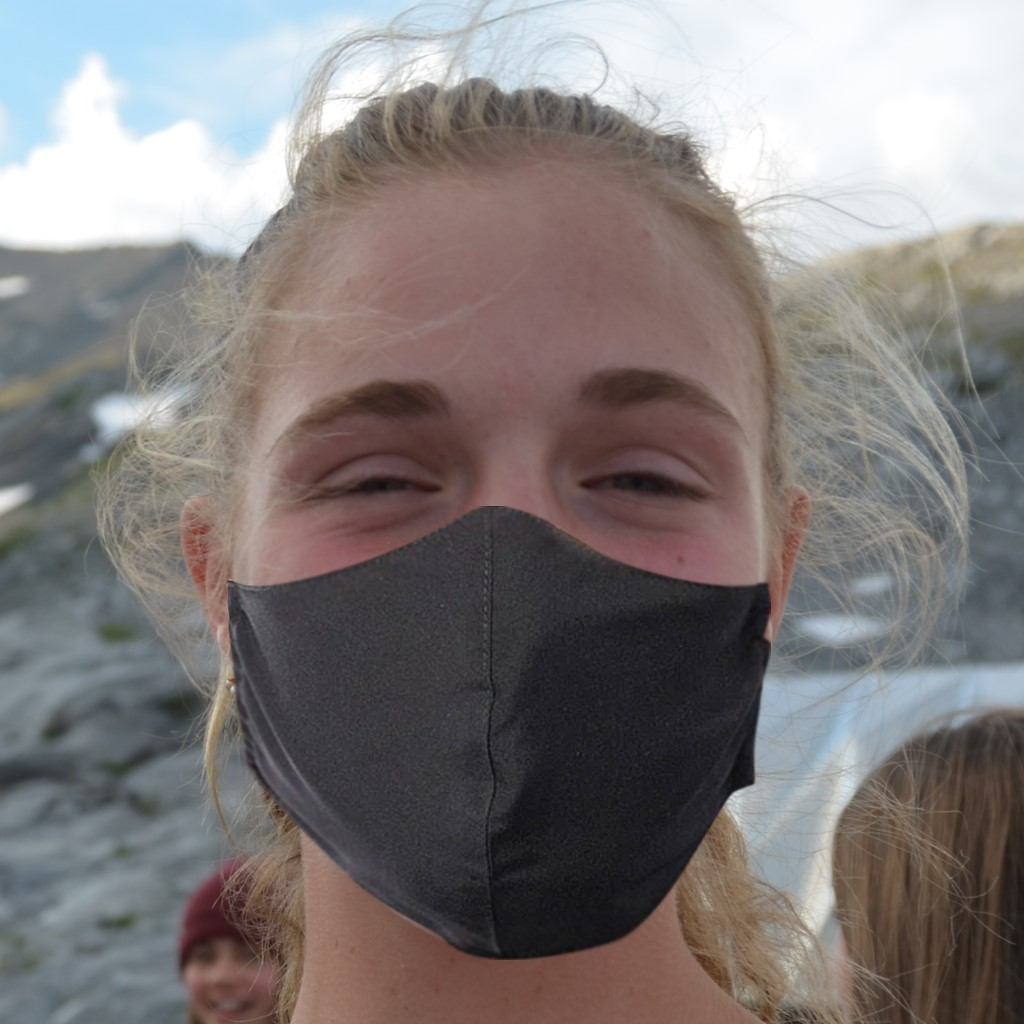con_mascara: (212, 126, 785, 978)
